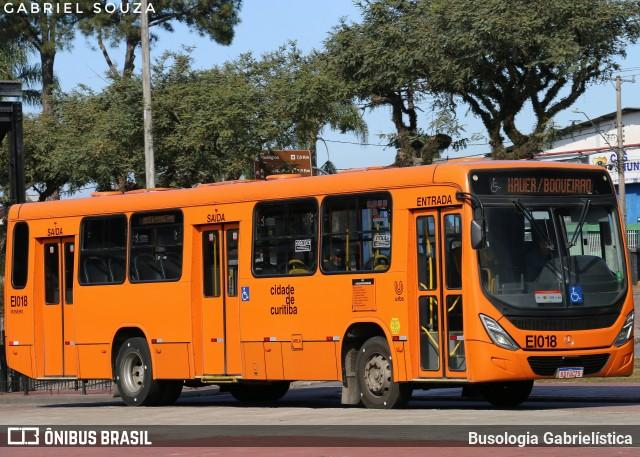HAUER BOQUEIRAO: (503, 175, 595, 198)
